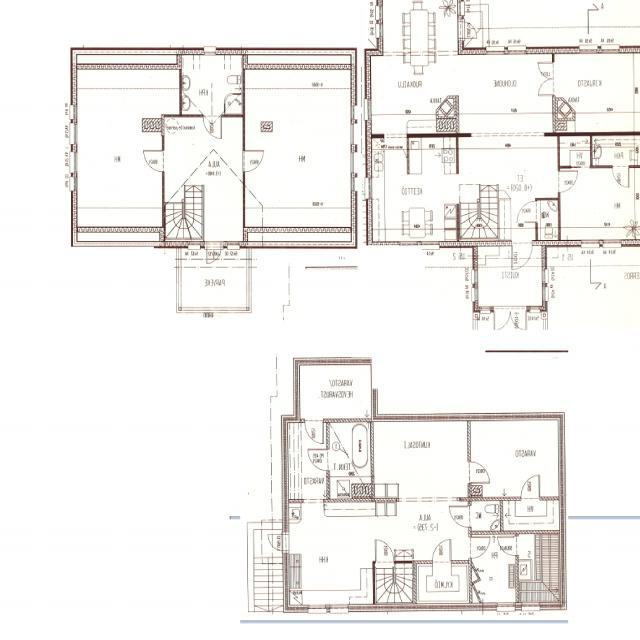door: (512, 241, 532, 268), (521, 475, 540, 501), (468, 536, 490, 558), (432, 539, 451, 564), (308, 448, 329, 470), (242, 150, 263, 172), (450, 506, 471, 527), (143, 150, 164, 171), (203, 114, 221, 138), (468, 462, 489, 482), (498, 536, 519, 556), (558, 171, 578, 192), (494, 306, 510, 332), (510, 306, 526, 332), (376, 541, 394, 564), (518, 202, 538, 222), (206, 242, 221, 267), (266, 534, 288, 551), (458, 22, 480, 39), (138, 96, 156, 114), (614, 165, 629, 186), (276, 104, 294, 120), (538, 62, 555, 78), (538, 79, 555, 95)
